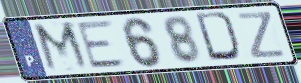6: (121, 15, 165, 69)
8: (162, 14, 203, 66)
D: (192, 10, 245, 64)
E: (74, 18, 129, 71)
M: (30, 20, 94, 74)
Z: (236, 10, 289, 61)
